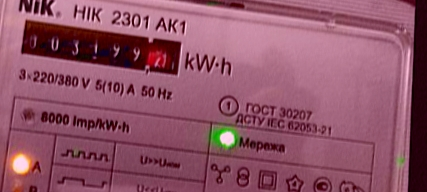0: (26, 31, 39, 50), (49, 32, 60, 52)
1: (90, 35, 100, 54)
3: (69, 37, 79, 57)
6: (152, 55, 163, 71)
9: (130, 45, 141, 63), (110, 40, 120, 58)
screen: (14, 15, 189, 83)
